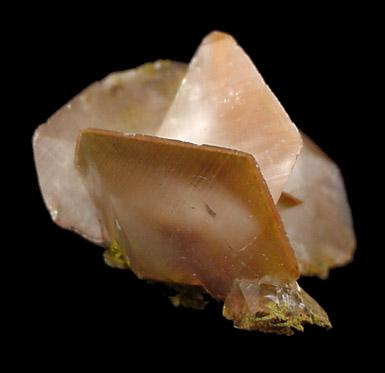calcite: (33, 31, 357, 278)
